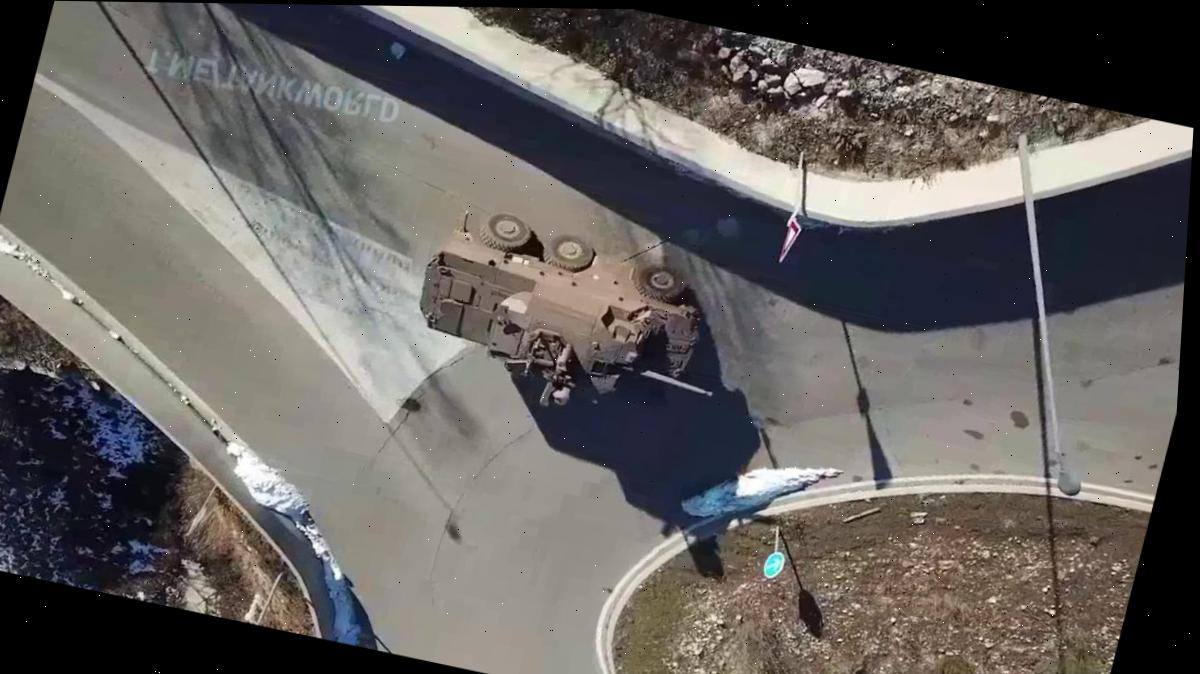tank: (394, 199, 752, 442)
